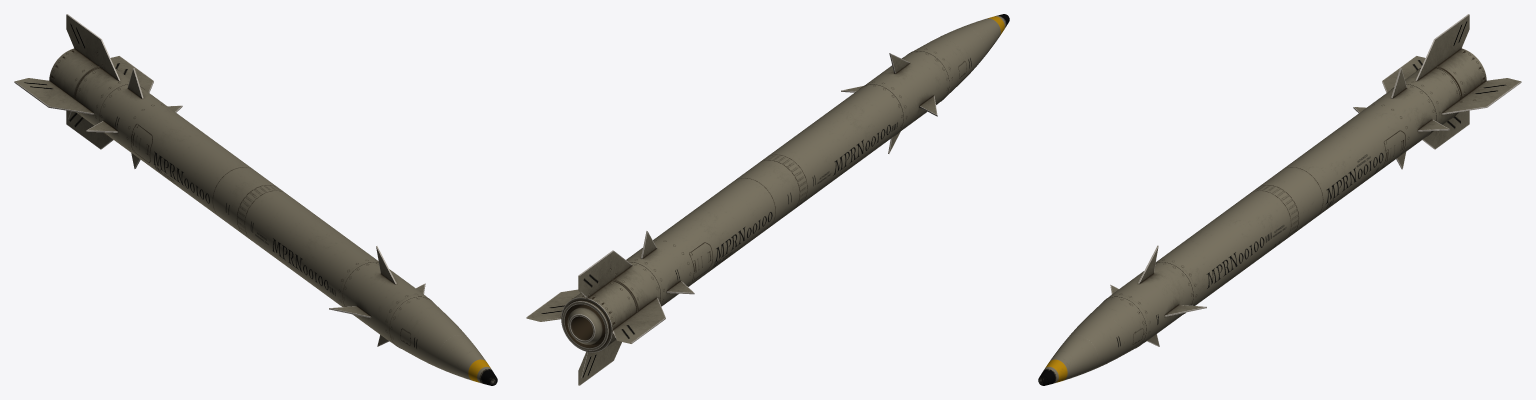
Rendered from missile_fateh_110.glb.
3 views of the same model, side by side, from view 1: azimuth 30°, elevation 25°; view 2: azimuth 150°, elevation 25°; view 3: azimuth 330°, elevation 25° (orthographic).
Visible parts, largest first — view 1: Object_2; view 2: Object_2; view 3: Object_2.
Boxes of the visible parts, x1,y1,x2,y2 form: Object_2: (14, 14, 497, 385); Object_2: (526, 14, 1009, 385); Object_2: (1038, 14, 1521, 385).
Size of the model in its own units: 107 by 107 by 755.
1 material, 1 textured.
